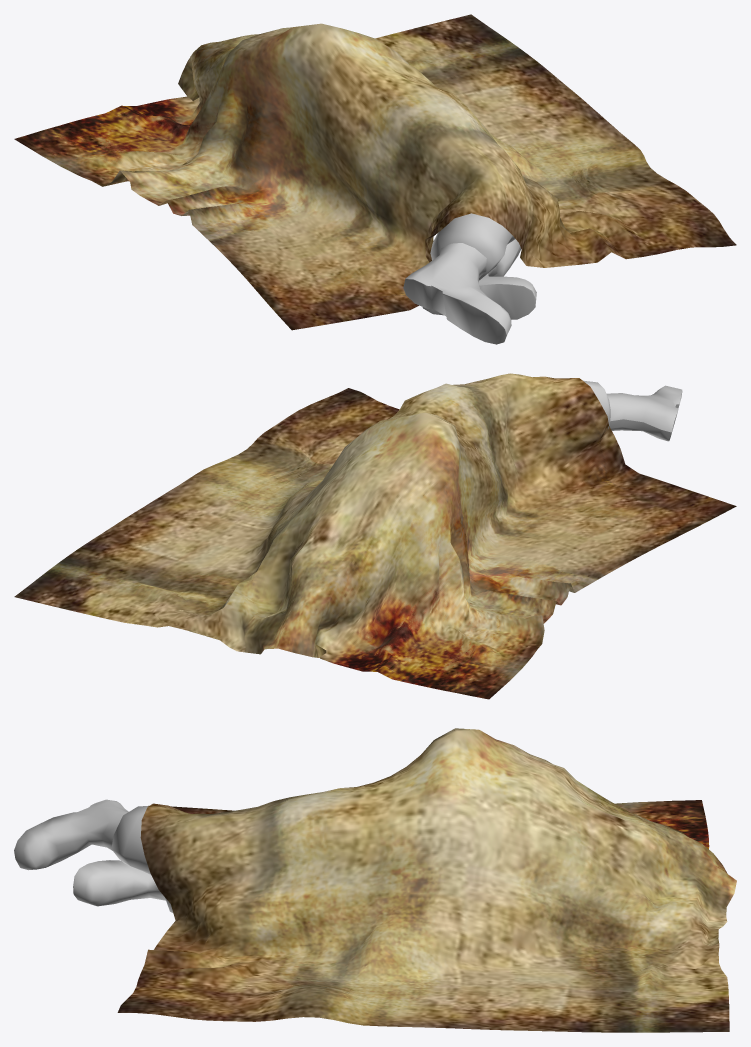
File: DEAD BODY 1.fbx
The picture shows the model from 3 angles, top to bottom: view 1: azimuth 30°, elevation 25°; view 2: azimuth 150°, elevation 25°; view 3: azimuth 270°, elevation 25°; orthographic projection. The views are drawn at different scales.
Parts seen in each view (by area): view 1: DEAD BODY 1, DEAD FEET; view 2: DEAD BODY 1, DEAD FEET; view 3: DEAD BODY 1, DEAD FEET.
Part boxes in pixels (x1,y1,x2,y2): DEAD BODY 1: (14,14,736,330); DEAD FEET: (403,213,536,344); DEAD BODY 1: (14,373,736,699); DEAD FEET: (583,380,682,441); DEAD BODY 1: (117,728,736,1032); DEAD FEET: (14,799,173,912).
Size of the model in its own units: 474 by 167 by 623.
